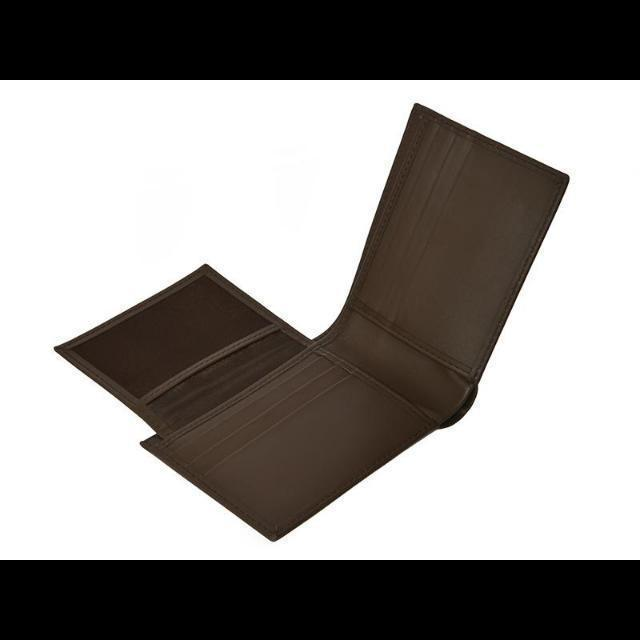wallet: (53, 102, 571, 542)
